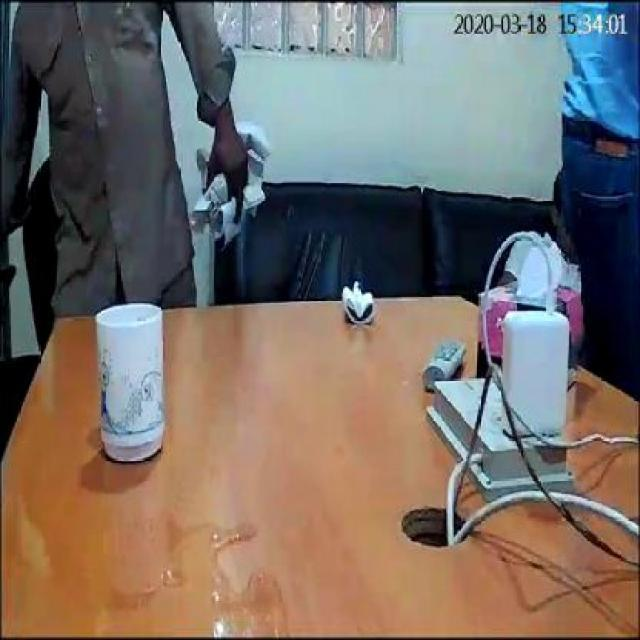spill: (88, 505, 287, 633)
